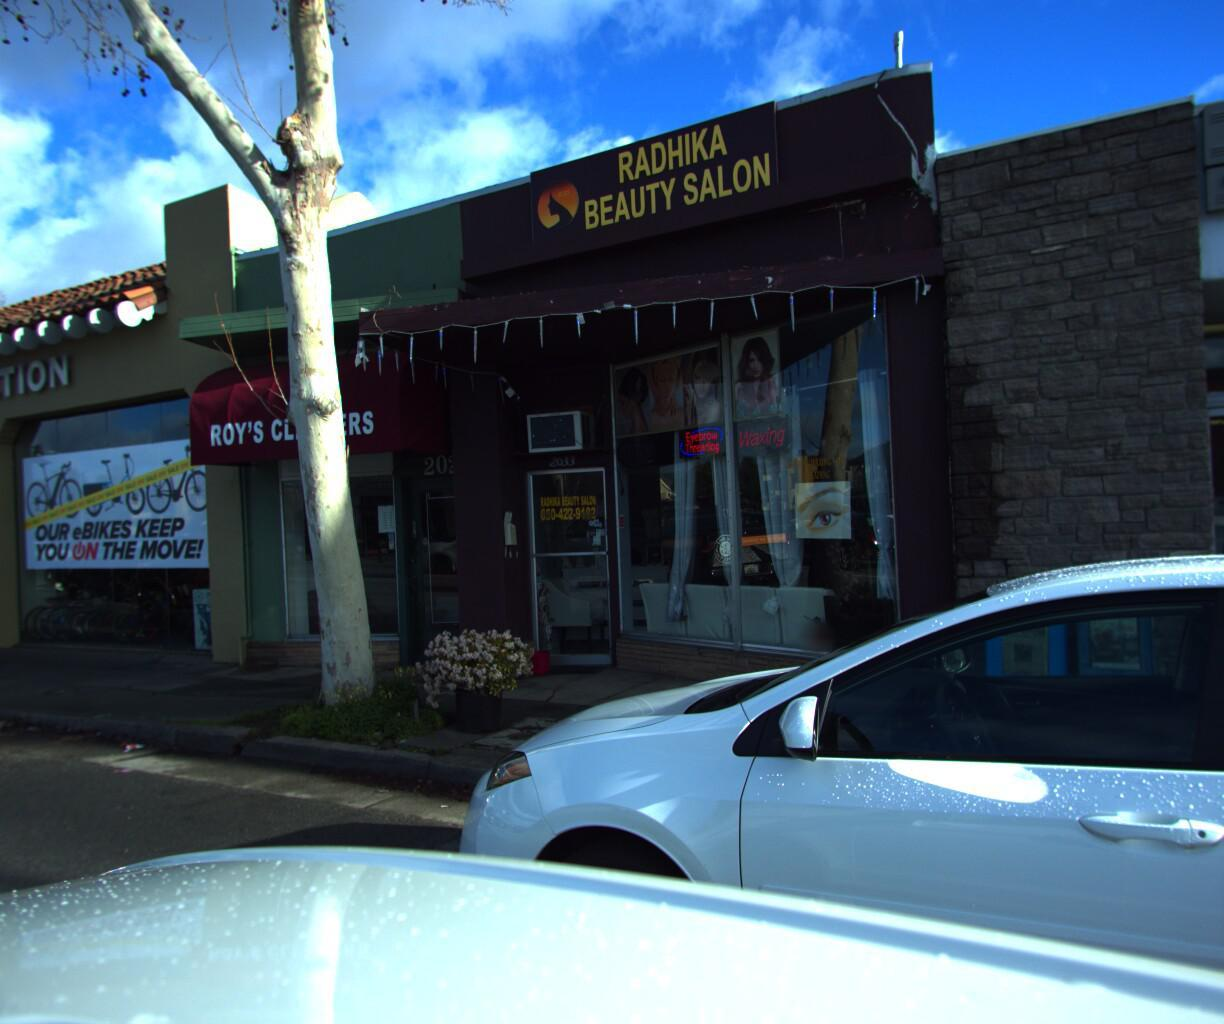car: (340, 511, 1224, 1024)
